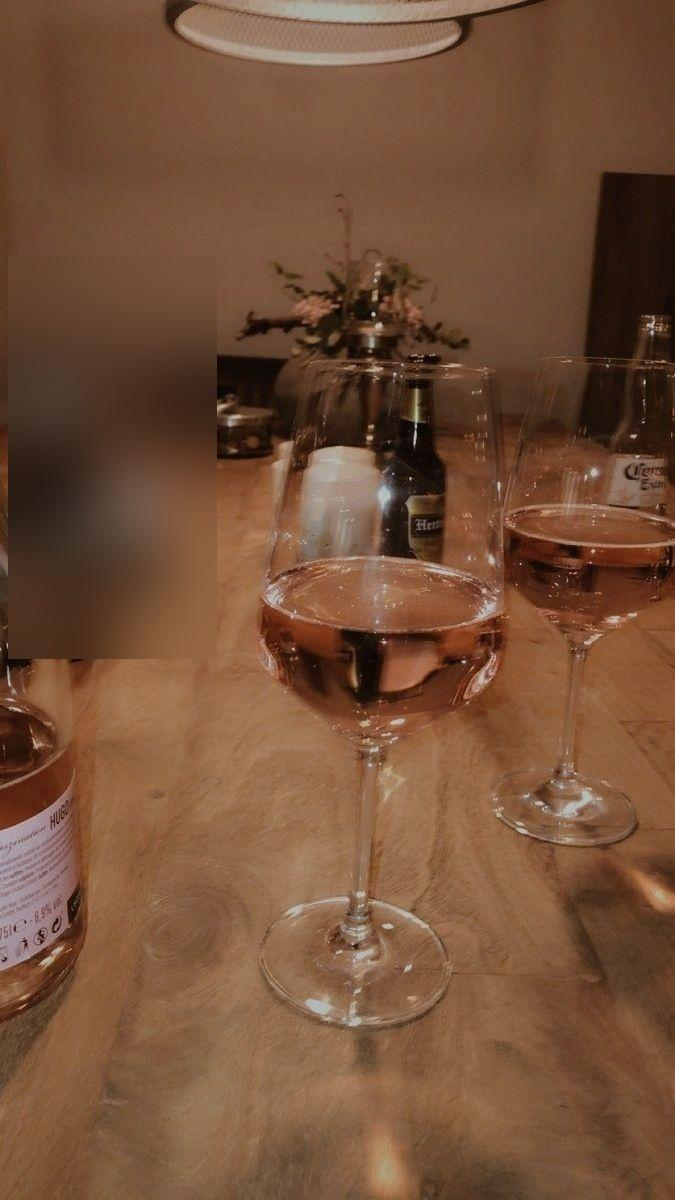glass-wine: (246, 347, 511, 1042), (486, 350, 673, 850)
